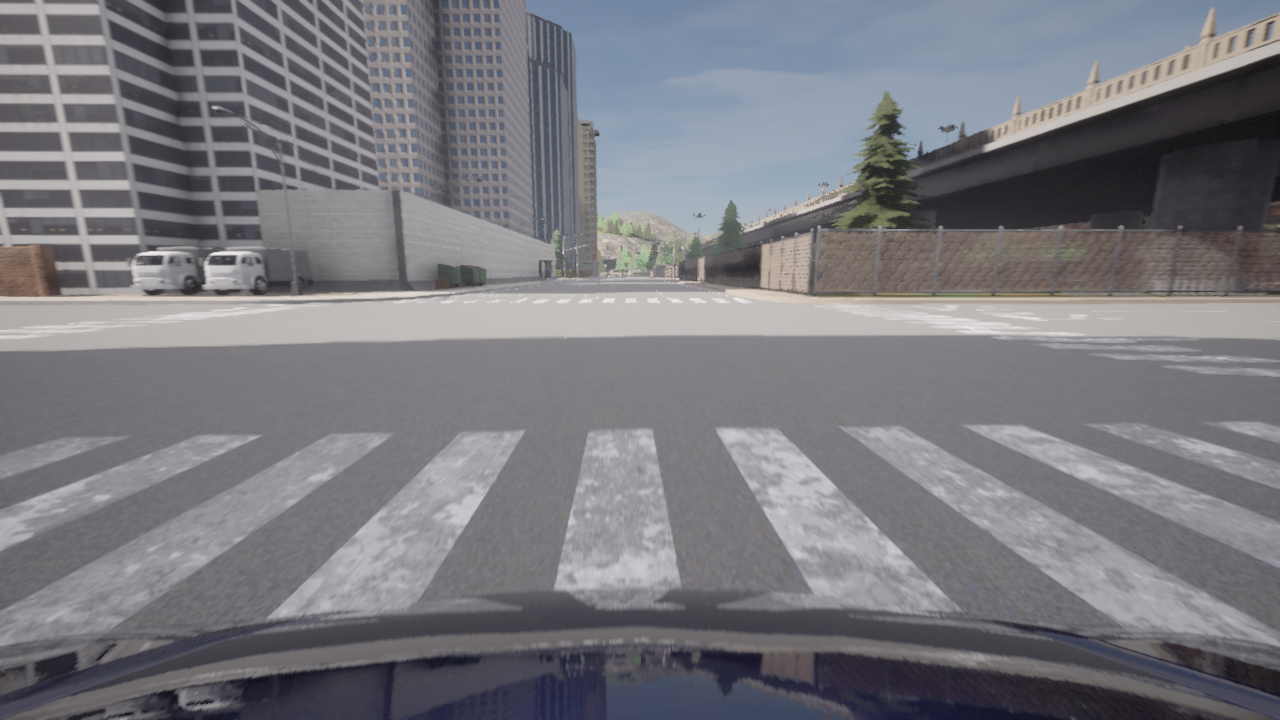cyclist: (0, 588, 1279, 719), (199, 247, 313, 294), (127, 247, 241, 294)
